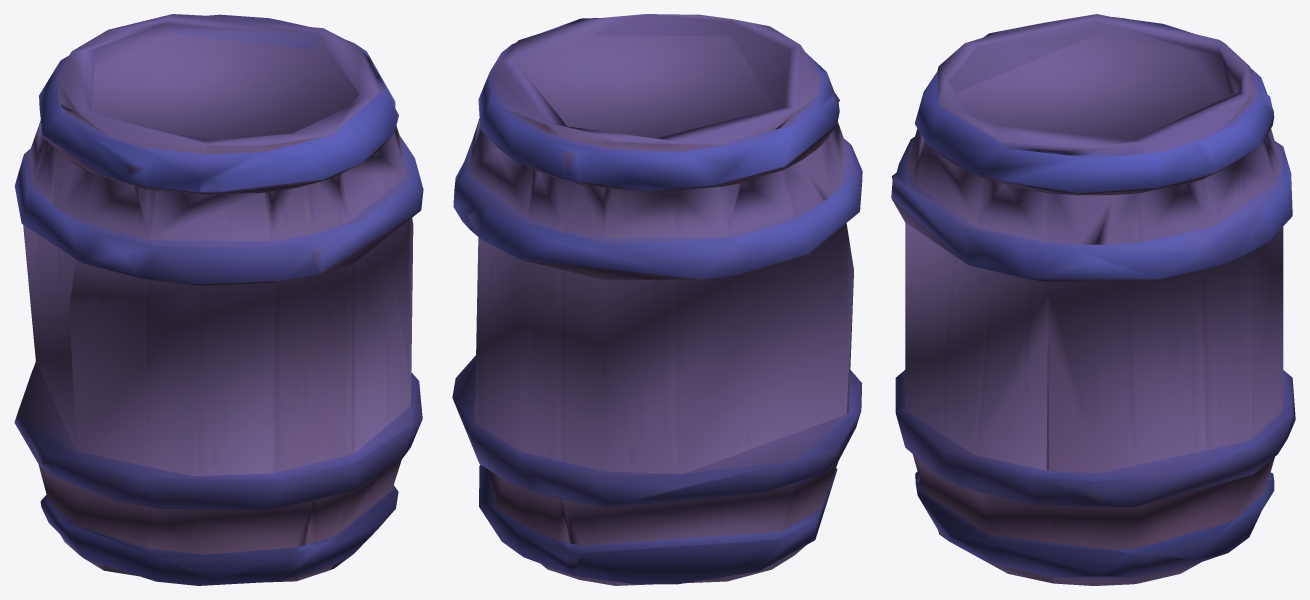
Rendered from model.progressive.glb.
3 views of the same model, side by side, from view 1: azimuth 30°, elevation 25°; view 2: azimuth 150°, elevation 25°; view 3: azimuth 270°, elevation 25° (orthographic).
Visible parts, largest first — view 1: material; view 2: material; view 3: material.
Boxes of the visible parts, x1,y1,x2,y2 form: material: (14, 14, 423, 585); material: (452, 14, 862, 585); material: (891, 14, 1295, 585).
Bounding box in the file's own units: 1.59 × 1.9 × 1.58.
1 material, 1 textured.
